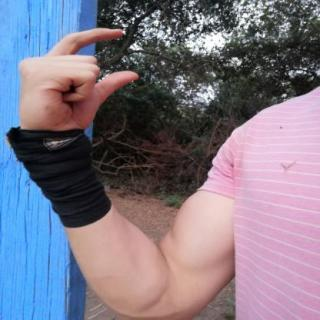DELL: (7, 21, 146, 143)
